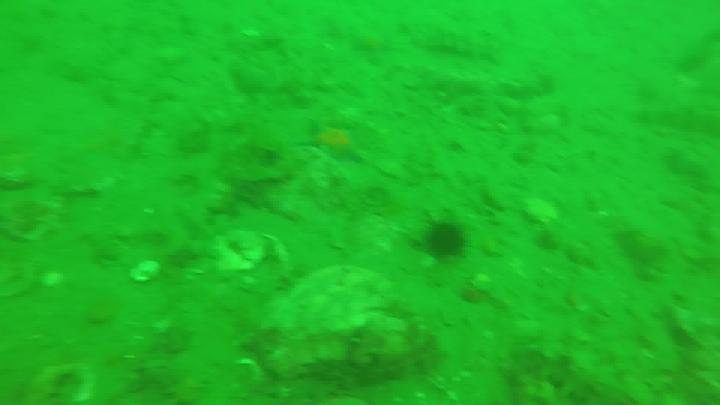echinus: (426, 223, 468, 258)
holothurian: (416, 24, 499, 62)
scallop: (211, 234, 268, 272), (519, 196, 562, 227), (131, 262, 164, 281)
starfish: (304, 121, 368, 168)
